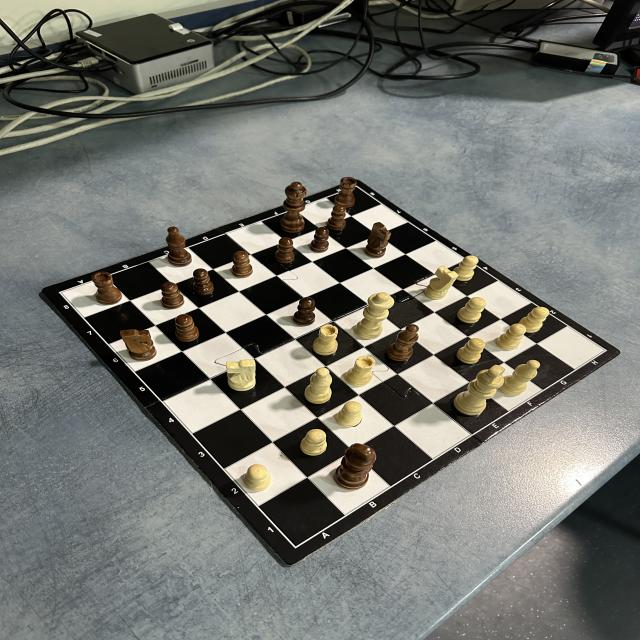Black-Bishop: (386, 324, 420, 362), (166, 226, 192, 268)
Black-King: (334, 443, 377, 490)
Black-Knight: (119, 329, 156, 362), (364, 222, 392, 258)
Black-Pawn: (173, 314, 200, 343), (292, 296, 316, 326), (160, 282, 185, 310), (192, 268, 215, 296), (232, 250, 252, 278), (309, 227, 330, 253), (327, 204, 347, 231), (275, 237, 295, 264)
Black-Queen: (279, 182, 308, 233)
Black-Rook: (91, 272, 123, 306), (333, 177, 358, 208)
White-Bishop: (497, 359, 541, 396), (304, 367, 333, 404)
White-King: (453, 365, 506, 416)
White-Knight: (423, 266, 459, 300), (225, 359, 257, 392)
White-Pawn: (517, 306, 550, 334), (496, 323, 526, 351), (456, 296, 486, 324), (299, 429, 328, 456), (456, 338, 486, 364), (243, 464, 271, 491), (336, 401, 362, 427), (454, 255, 479, 282)
White-Queen: (353, 292, 395, 340)
White-Rook: (344, 355, 376, 387), (312, 324, 339, 356)
